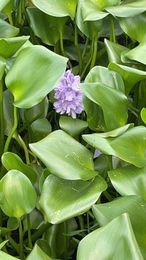water_hyacinth: (0, 0, 146, 260)
